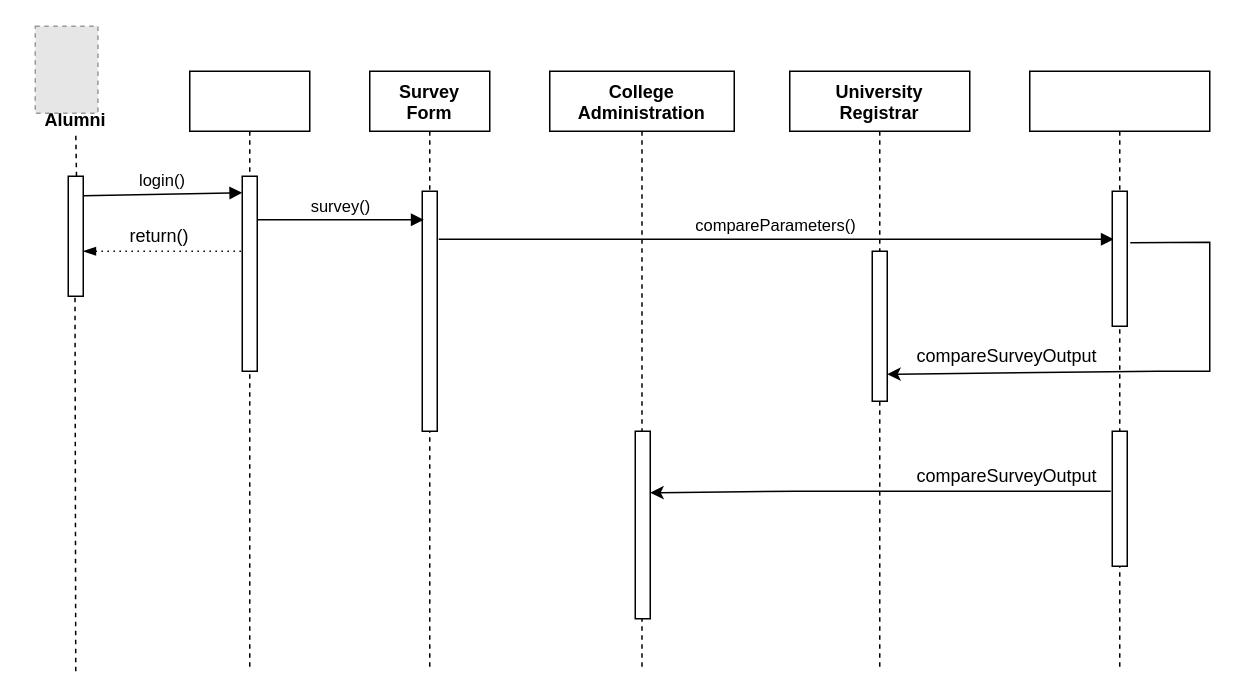
Some shapes in this 1248 by 699 pixel diagram are drawn without their labels. Grey dashed boxes stand in for pictures. Here are the shapes that lost their labels. From the top down, the box of each, then its label:
(188, 70, 310, 671): Directory
(1028, 70, 1210, 671): Compare
